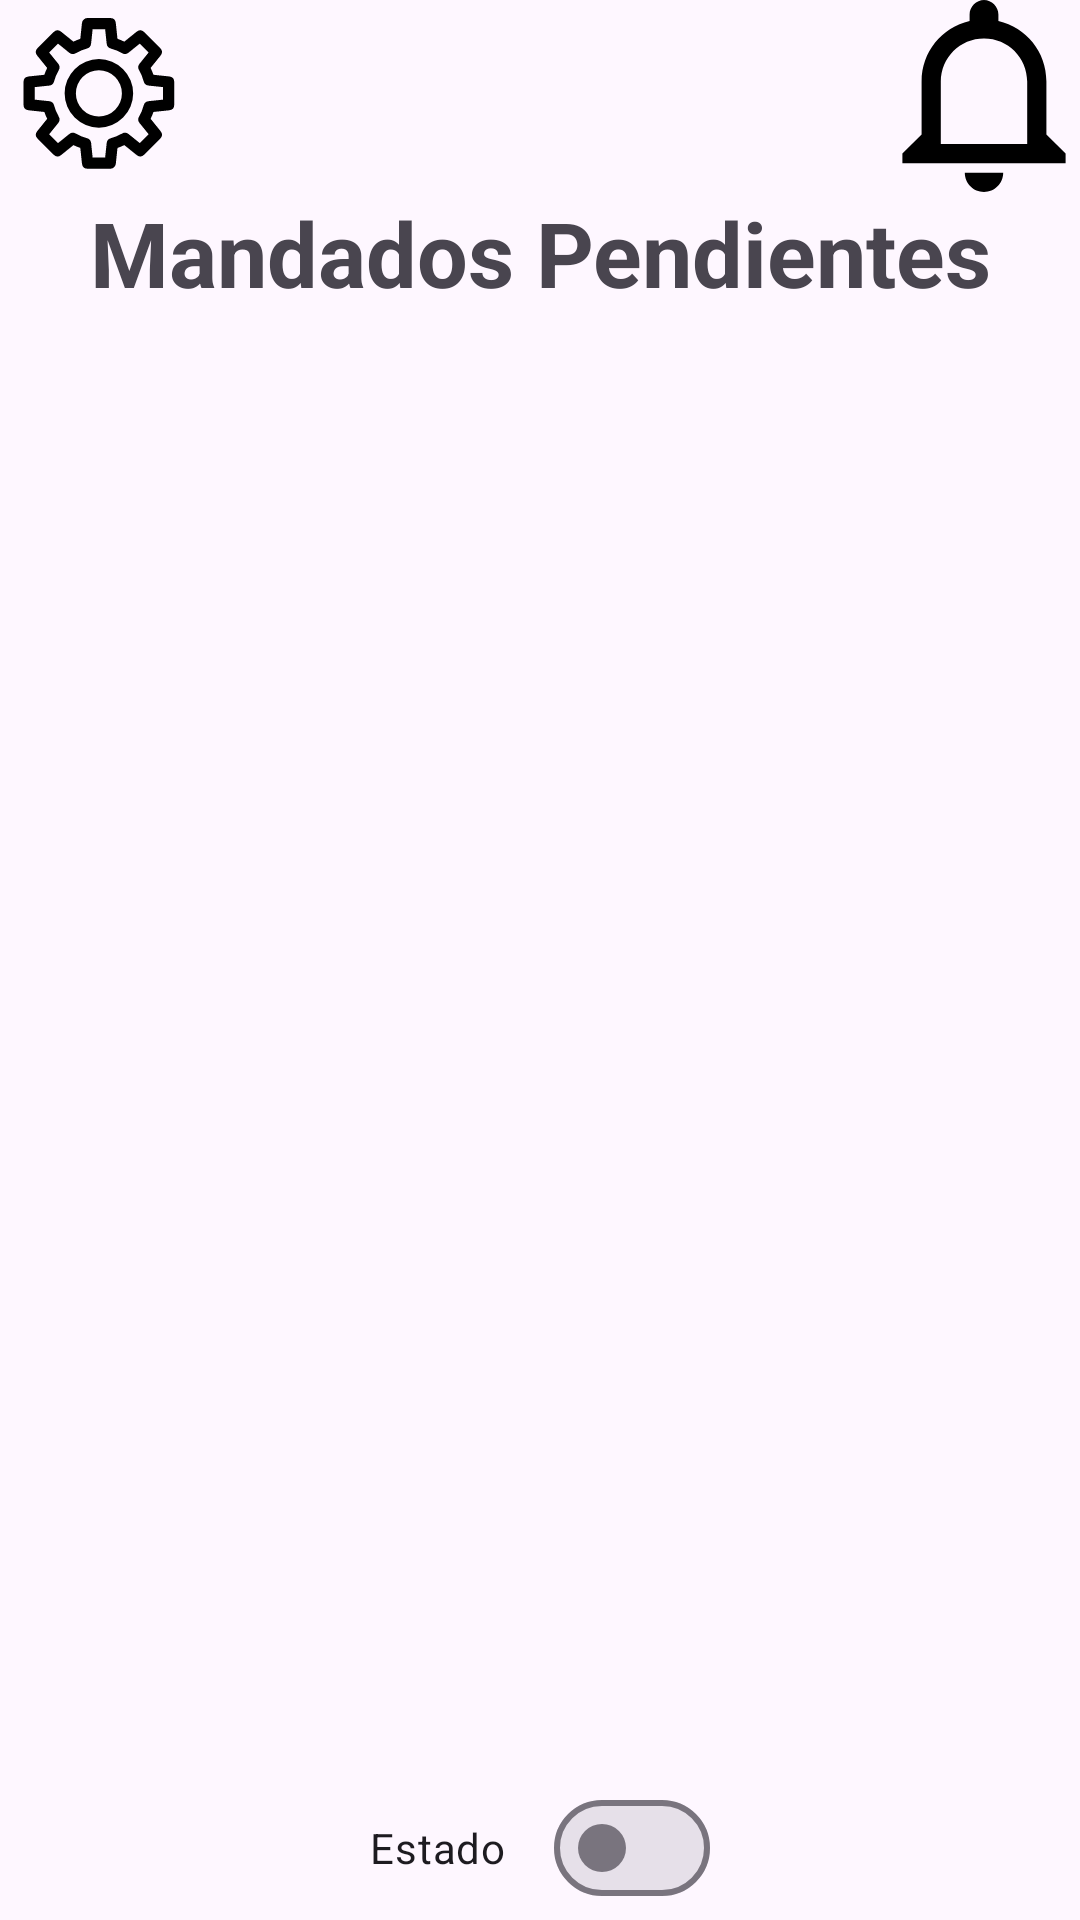

Icon click points for this 1080px×1920px phone screenshot, format (x=x, y=y):
Configuraciones: (x=99, y=93)
Notificaciones: (x=984, y=96)
